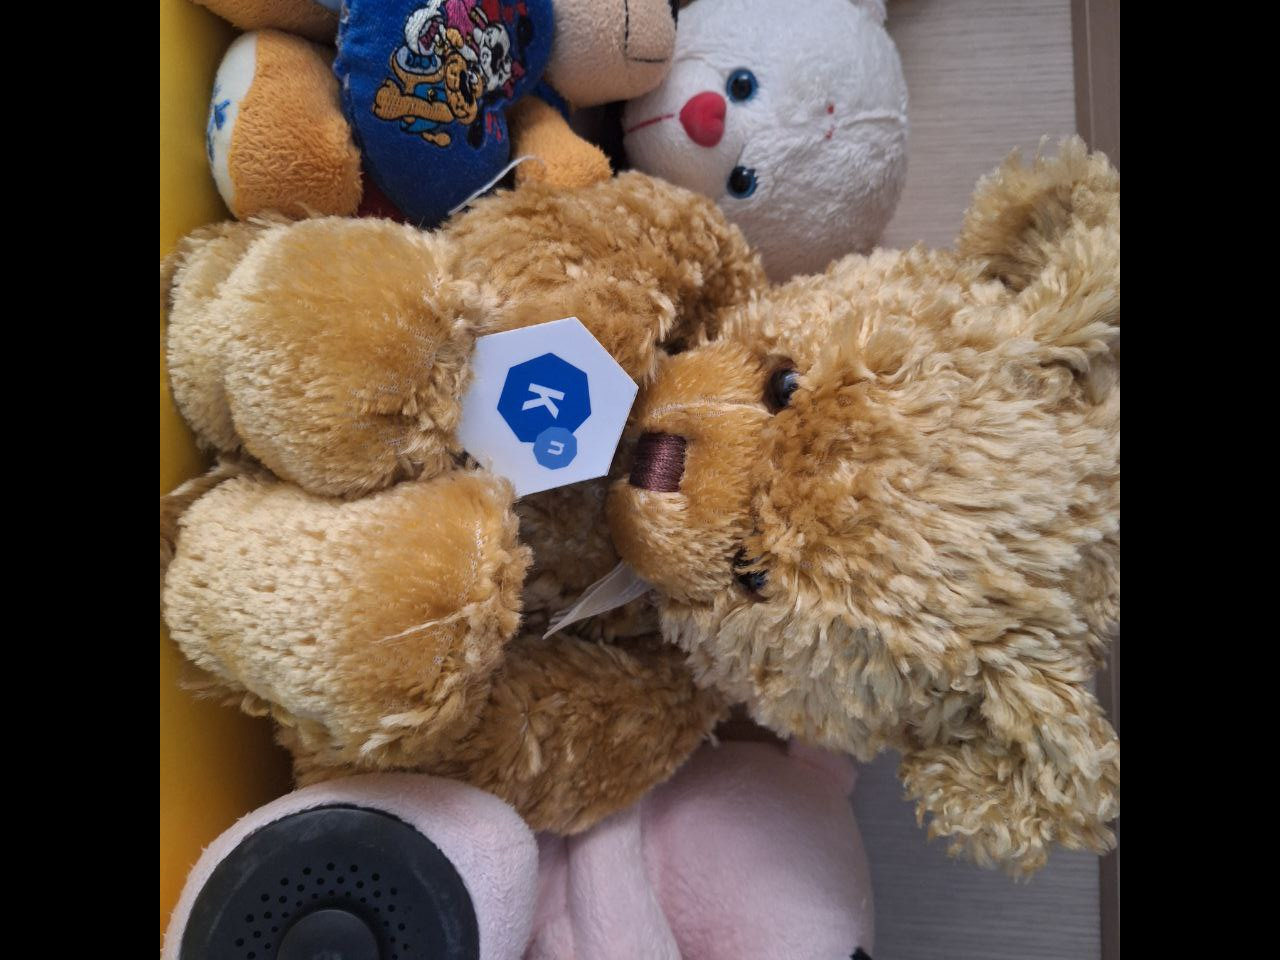knative: (494, 351, 593, 473)
